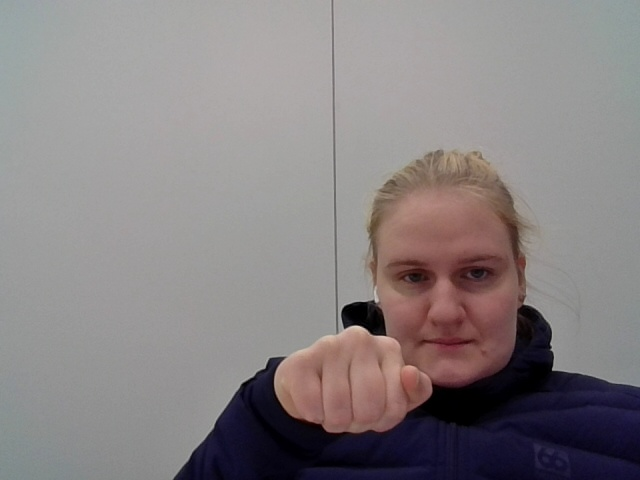down: (242, 320, 454, 452)
